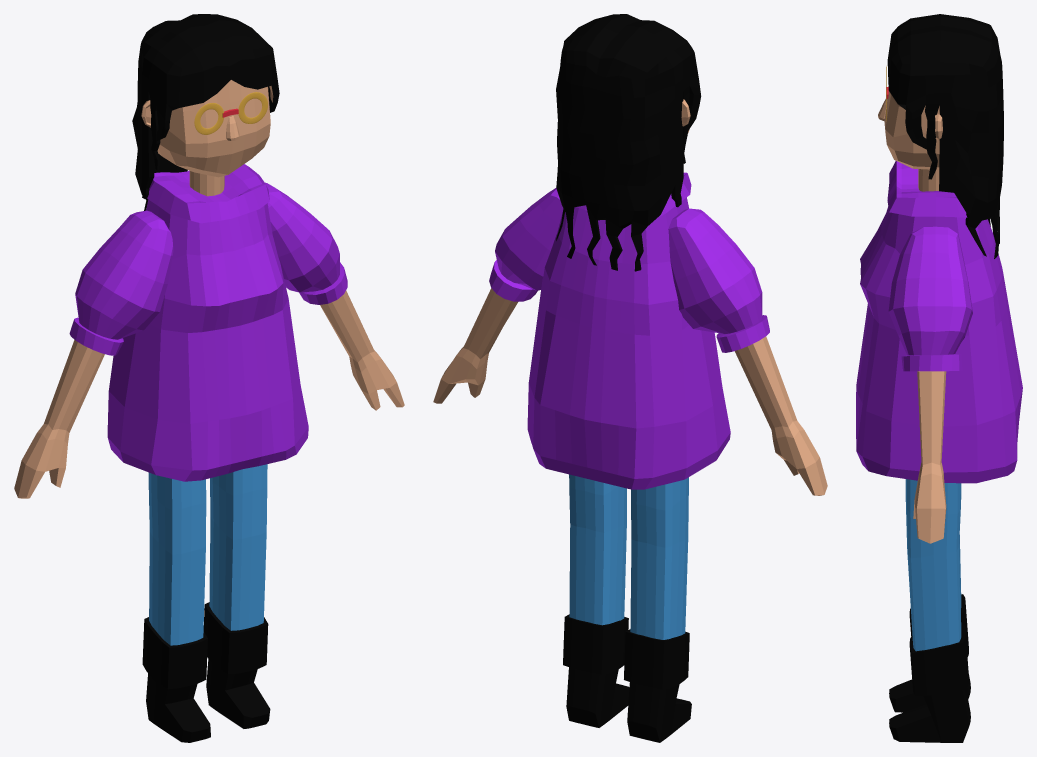
The model's file is maria belen.fbx.
3 renders of one model, left to right at view 1: azimuth 30°, elevation 25°; view 2: azimuth 150°, elevation 25°; view 3: azimuth 270°, elevation 25°, orthographic.
Visible parts, largest first — view 1: Maria; view 2: Maria; view 3: Maria.
Boxes of the visible parts, bbox=[...] form: Maria: bbox=[14, 14, 404, 742]; Maria: bbox=[433, 14, 827, 742]; Maria: bbox=[856, 14, 1022, 742].
Size of the model in its own units: 230 by 397 by 86.01.
